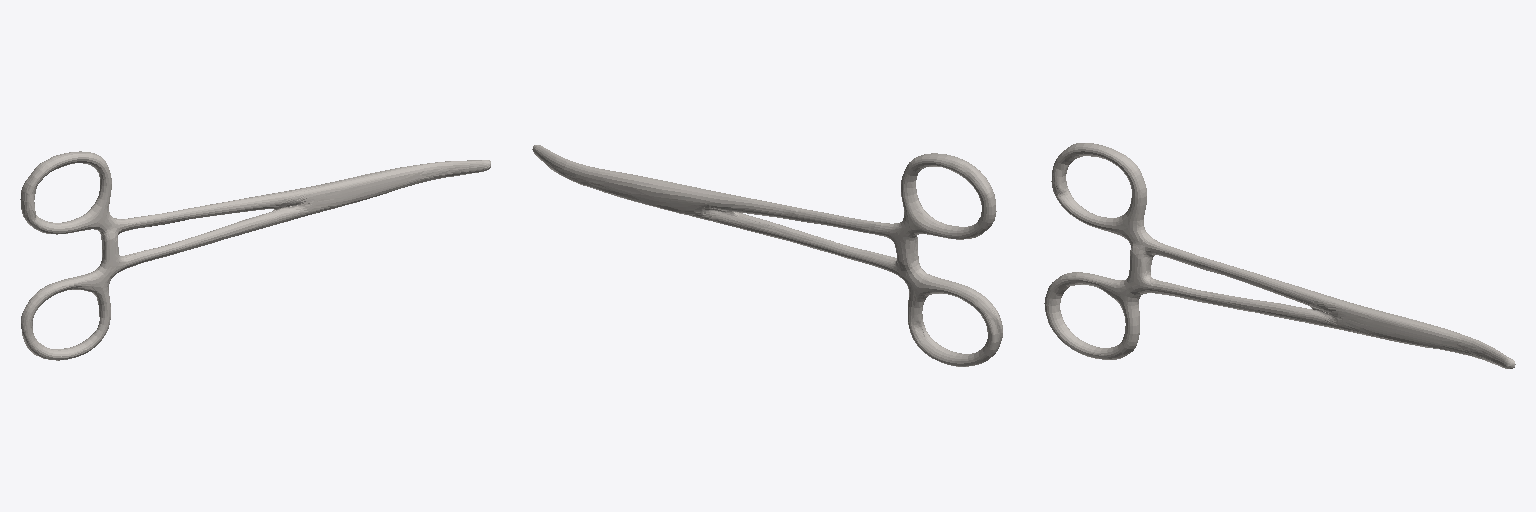
URDF robot description (Tooling_10):
<?xml version="1.0" encoding="utf-8"?>
<!-- This URDF was automatically created by SolidWorks to URDF Exporter! Originally created by Stephen Brawner (brawner@gmail.com)
     Commit Version: 1.6.0-4-g7f85cfe  Build Version: 1.6.7995.38578
     For more information, please see http://wiki.ros.org/sw_urdf_exporter -->
<robot
  name="Tooling_10">
  <link
    name="base_link">
    <inertial>
      <origin
        xyz="1.0765E-05 0.00053873 4.8202E-05"
        rpy="0 0 0" />
      <mass
        value="0.048535" />
      <inertia
        ixx="9.1508E-06"
        ixy="1.4364E-06"
        ixz="-2.5165E-07"
        iyy="0.00010391"
        iyz="3.549E-07"
        izz="0.00011286" />
    </inertial>
    <visual>
      <origin
        xyz="0 0 0"
        rpy="0 0 0" />
      <geometry>
        <mesh
          filename="../meshes/base_link.STL" />
      </geometry>
      <material
        name="">
        <color
          rgba="0.77647 0.75686 0.73725 1" />
      </material>
    </visual>
    <collision>
      <origin
        xyz="0 0 0"
        rpy="0 0 0" />
      <geometry>
        <mesh
          filename="../meshes/base_link.STL" />
      </geometry>
    </collision>
  </link>
</robot>

--- What the picture shows (computed from the rendered views, not written in the file) ---
Views: 3 orthographic renders of the robot side by side, from view 1: azimuth 30°, elevation 25°; view 2: azimuth 150°, elevation 25°; view 3: azimuth 330°, elevation 25°.
Robot: Tooling_10 — 1 links, 0 joints (none); root link base_link; default pose: all joints at 0.
Links seen in each view (by area): view 1: base_link; view 2: base_link; view 3: base_link.
Link boxes in pixels (left/top/right/bottom): base_link: left=20, top=151, right=490, bottom=360; base_link: left=532, top=145, right=1002, bottom=366; base_link: left=1044, top=143, right=1515, bottom=368.
Bounding box of the posed robot: 0.162 × 0.011 × 0.0679 m (x, y, z).
Meshes: 1 distinct files referenced, 1 mesh visuals loaded (1 binary STL).
